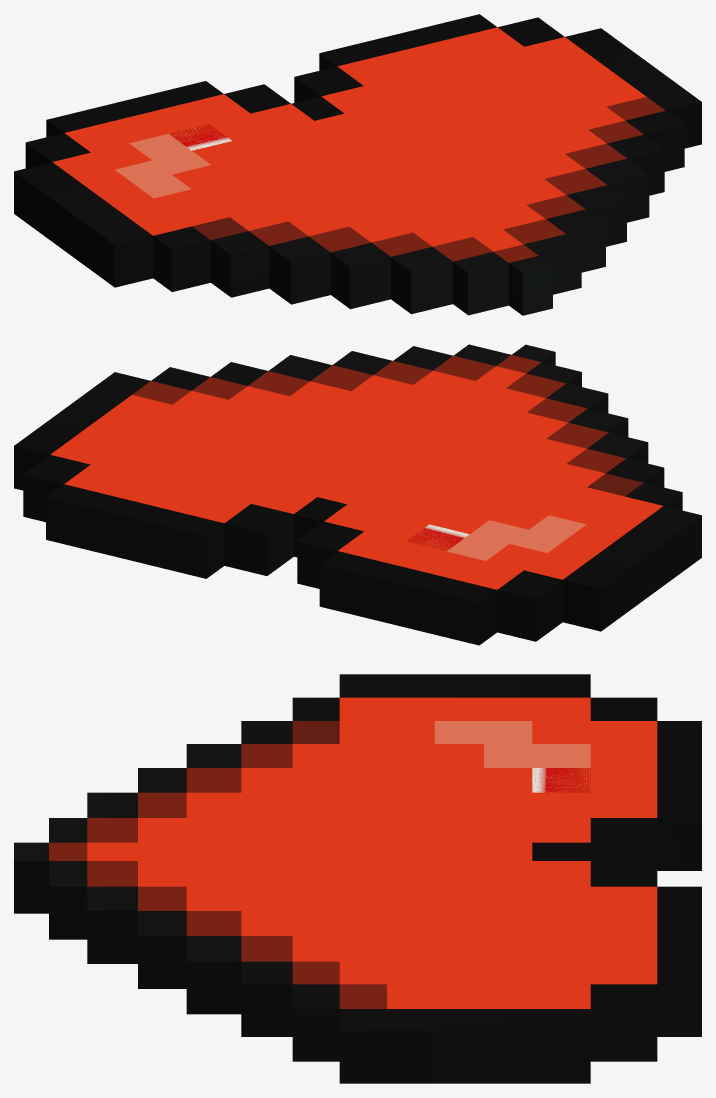
The model's file is hearthblend.fbx.
3 renders of one model, top to bottom at view 1: azimuth 30°, elevation 25°; view 2: azimuth 150°, elevation 25°; view 3: azimuth 270°, elevation 25°, orthographic. The views are drawn at different scales.
Parts seen in each view (by area): view 1: Cube; view 2: Cube; view 3: Cube.
Part boxes in pixels (x1,y1,x2,y2): Cube: (14, 14, 701, 315); Cube: (14, 344, 701, 645); Cube: (14, 674, 701, 1083).
Size of the model in its own units: 485 by 33.52 by 395.
